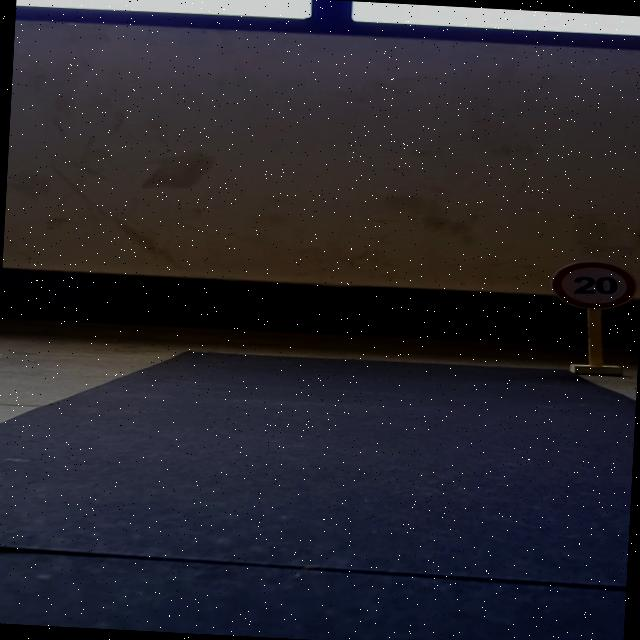Speed20: (546, 256, 640, 316)
